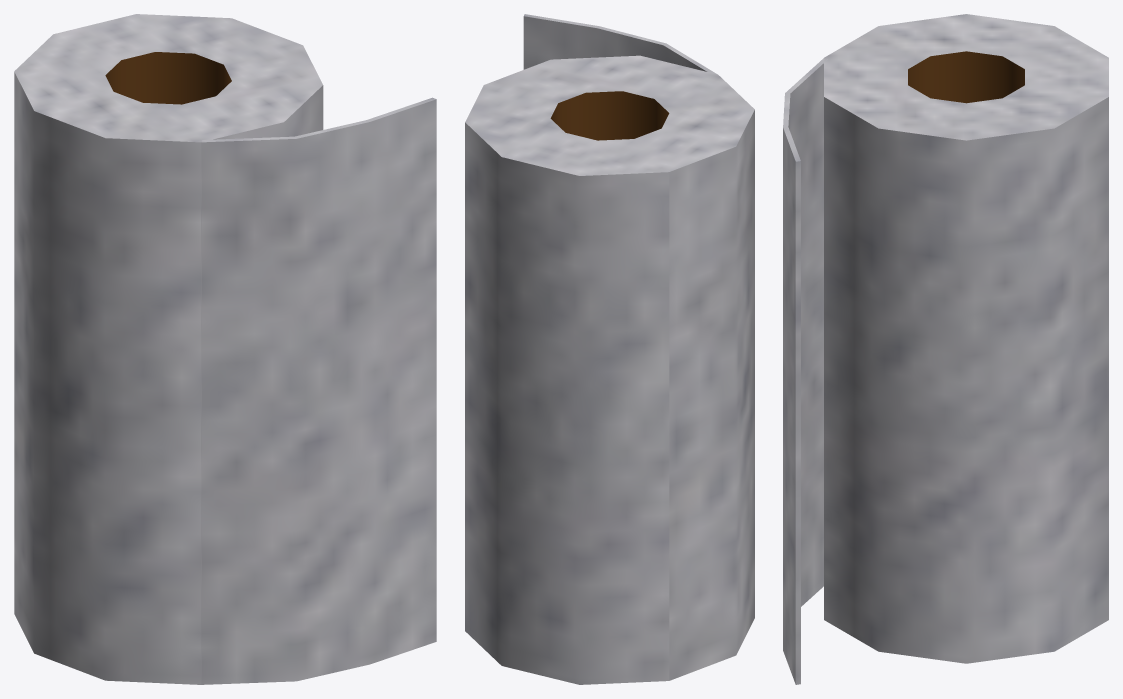
File: Paper_Towels.fbx
The picture shows the model from 3 angles, left to right: view 1: azimuth 30°, elevation 25°; view 2: azimuth 150°, elevation 25°; view 3: azimuth 270°, elevation 25°; orthographic projection. The views are drawn at different scales.
Parts seen in each view (by area): view 1: PT_Vertical_1; view 2: PT_Vertical_1; view 3: PT_Vertical_1.
Part boxes in pixels (box(x1,y1,x2,y2)): PT_Vertical_1: box(14, 14, 436, 684); PT_Vertical_1: box(465, 14, 754, 684); PT_Vertical_1: box(783, 14, 1108, 684).
Size of the model in its own units: 121 by 200 by 113.
1 material, 1 textured.
